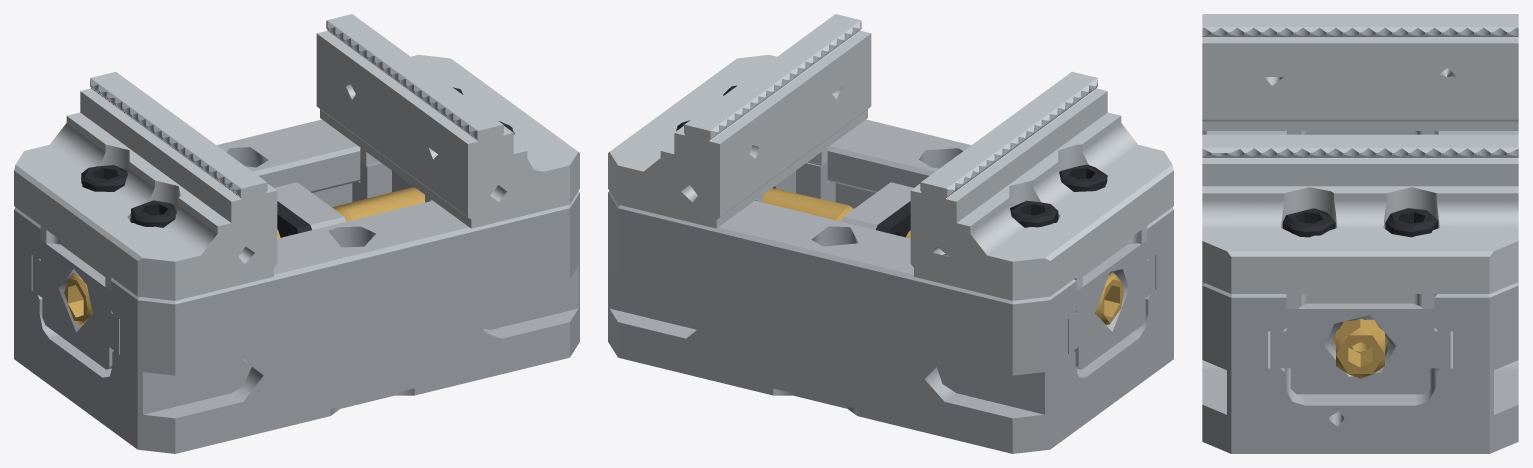
Rendered from vise-asc-77x130m.glb.
3 views of the same model, side by side, from view 1: azimuth 30°, elevation 25°; view 2: azimuth 150°, elevation 25°; view 3: azimuth 270°, elevation 25° (orthographic). The views are drawn at different scales.
Visible parts, largest first — view 1: body_mesh; view 2: body_mesh; view 3: body_mesh.
Boxes of the visible parts, box(x1,y1,x2,y2) form: body_mesh: box(14, 14, 579, 453); body_mesh: box(608, 14, 1173, 453); body_mesh: box(1202, 14, 1518, 453).
Bounding box in the file's own units: 135 × 70 × 77.
